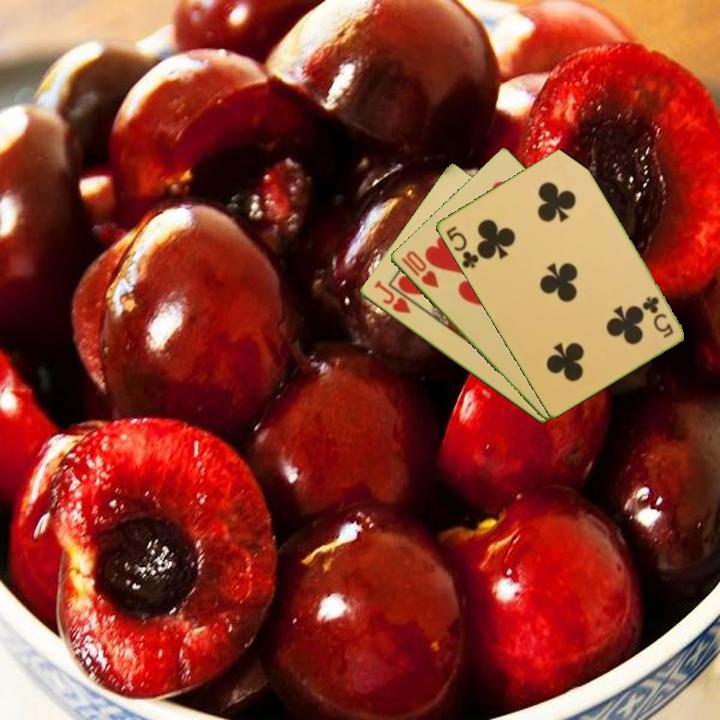10h: (397, 247, 441, 291)
5c: (442, 222, 481, 271), (639, 292, 676, 341)
Jh: (370, 277, 414, 317)
